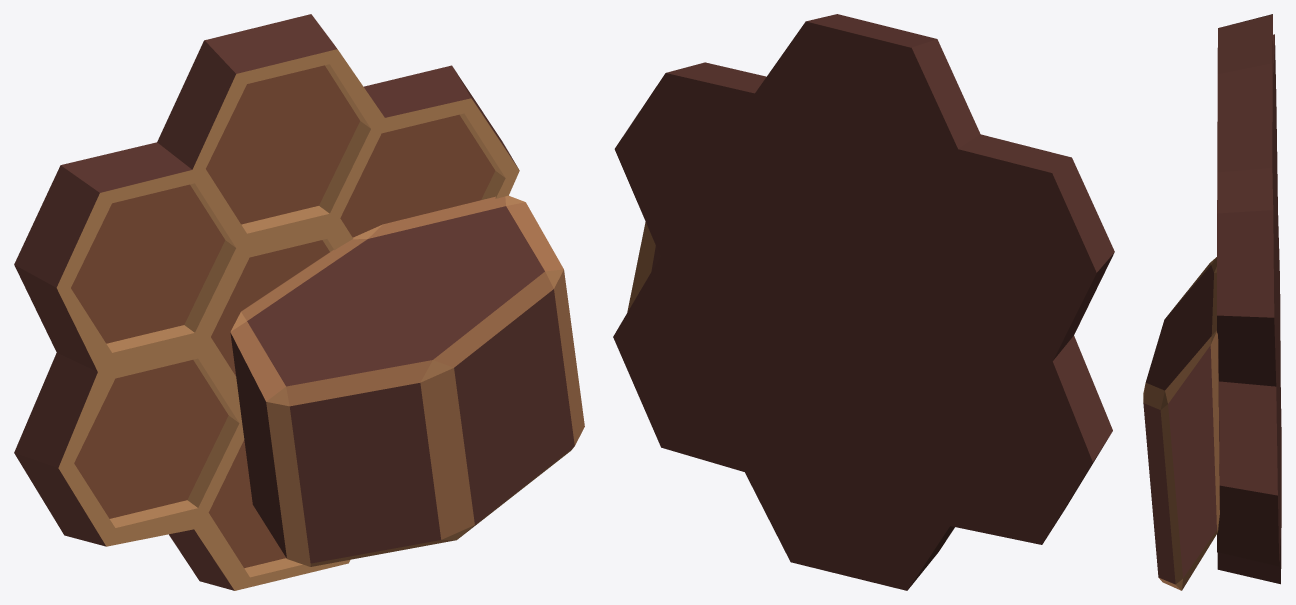
File: icon_wax_and_honey.fbx
3 renders of one model, left to right at view 1: azimuth 30°, elevation 25°; view 2: azimuth 150°, elevation 25°; view 3: azimuth 270°, elevation 25°, orthographic. The views are drawn at different scales.
Visible parts, largest first — view 1: icon_honey, icon_wax; view 2: icon_honey, icon_wax; view 3: icon_honey, icon_wax.
Boxes of the visible parts, x1,y1,x2,y2 form: icon_honey: (14,14,519,590); icon_wax: (230,195,584,566); icon_honey: (613,14,1114,590); icon_wax: (627,222,660,312); icon_honey: (1217,14,1281,584); icon_wax: (1143,257,1219,590).
Bounding box in the file's own units: 35.64 × 35.55 × 8.64.
